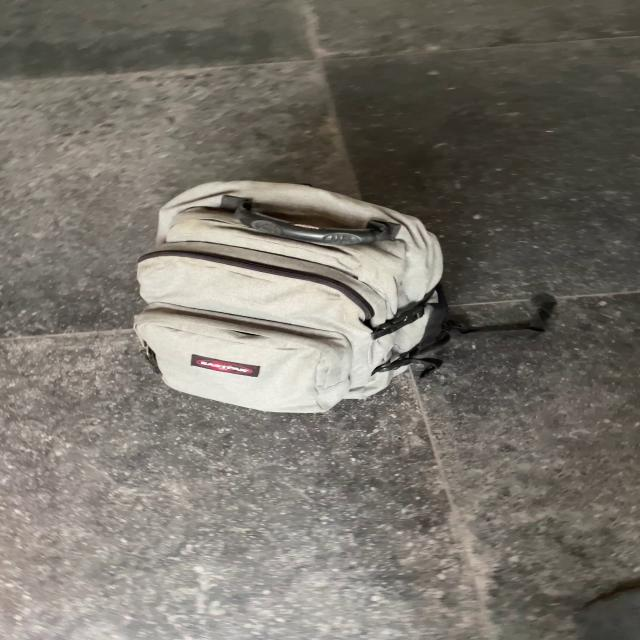backpack: (122, 170, 463, 417)
